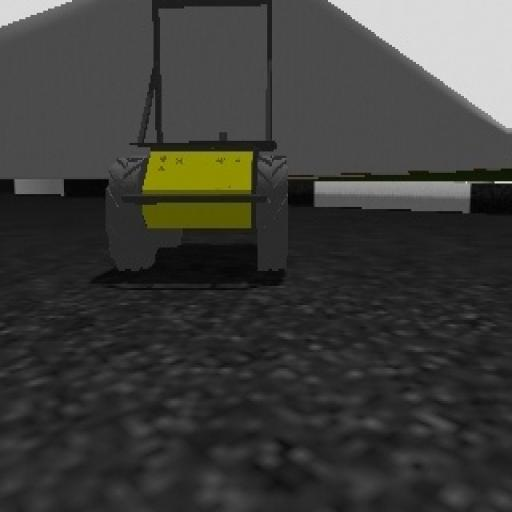huskya200: (110, 0, 291, 279)
